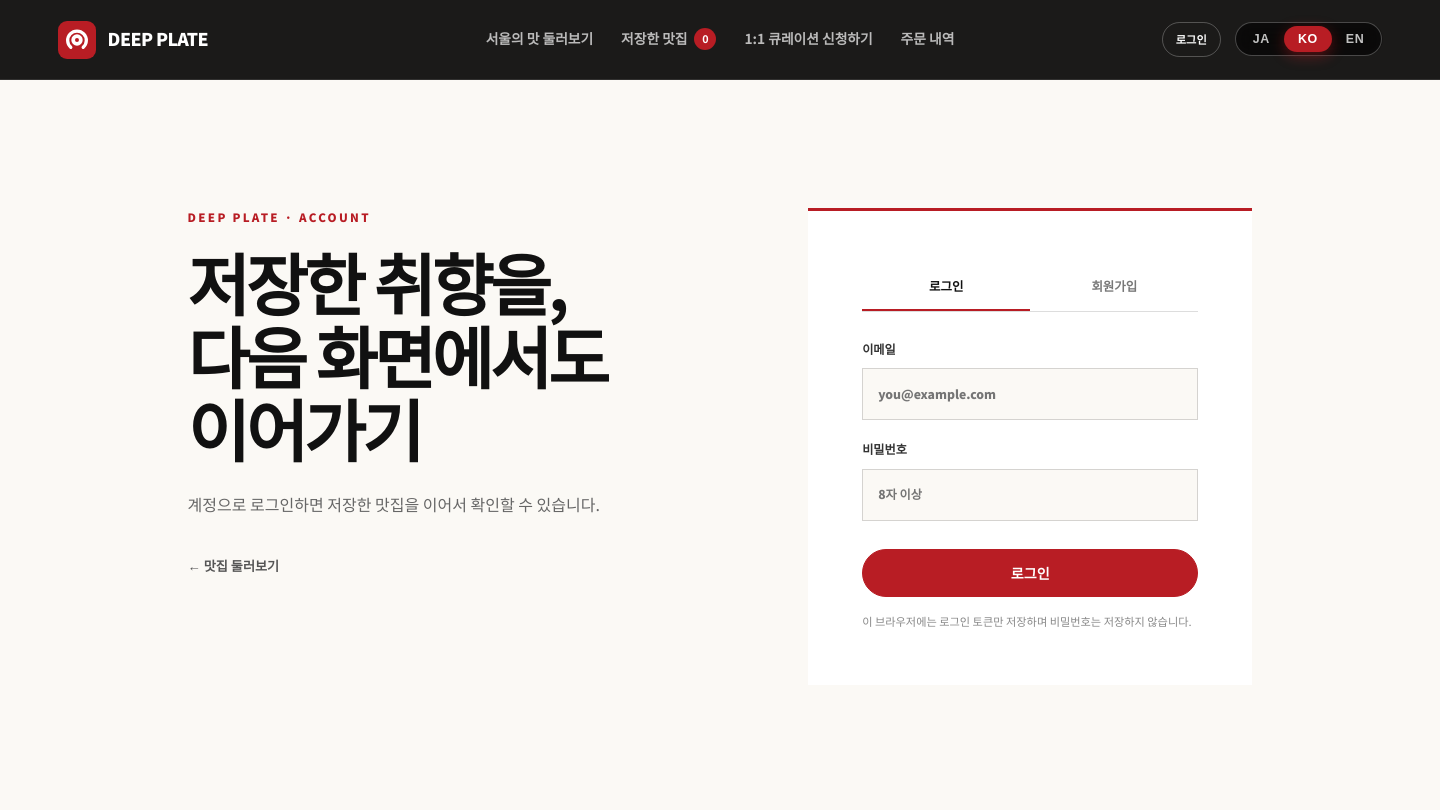
Deep Plate 주요 사용자 흐름 › 로그인과 회원가입을 제공하고 토큰만 저장한다
The image size is (1440, 810).
Click the button "회원가입" at (1114, 288), box [1030,265,1198,311]
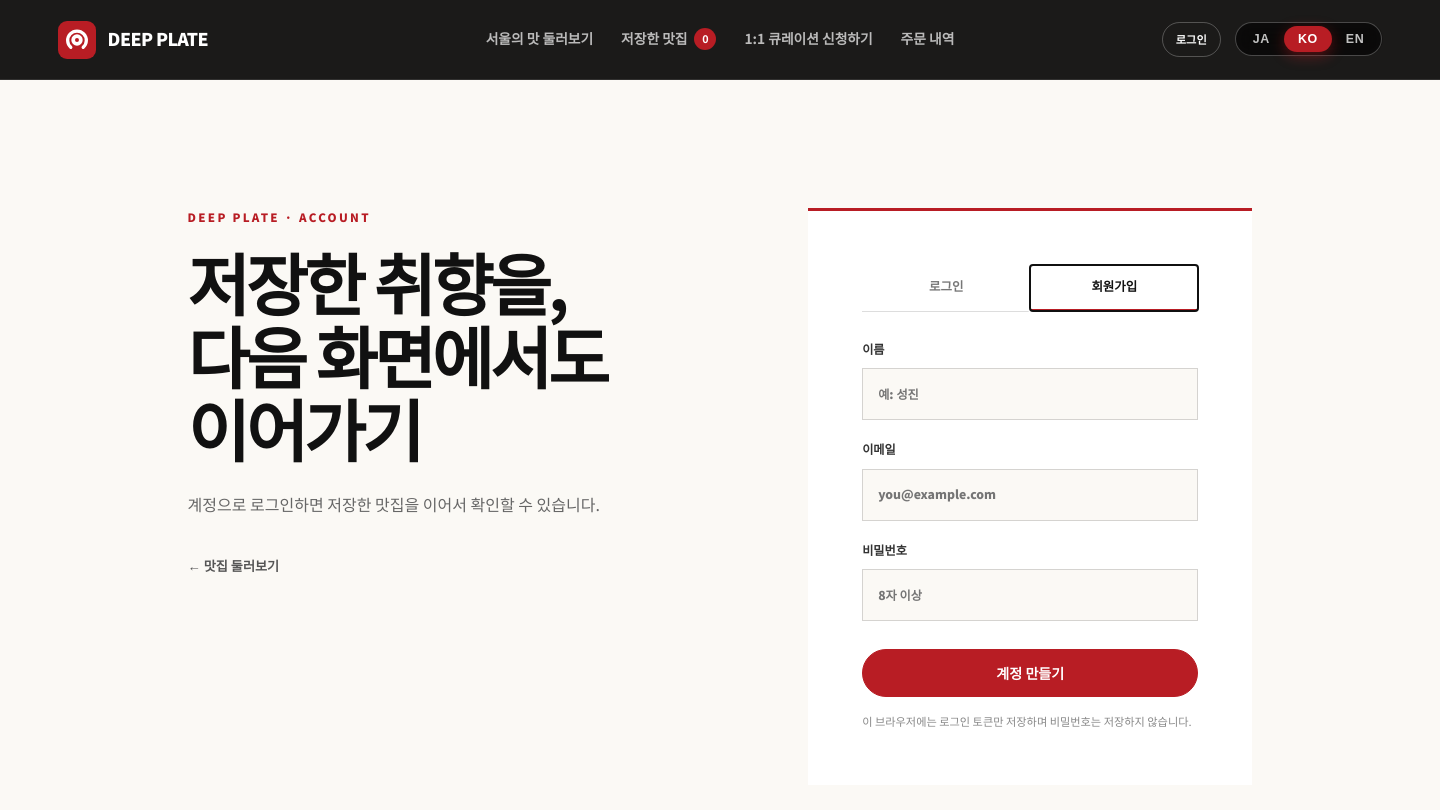
Type "성진" into the field labelled "이름" at (1030, 394), box [862,368,1198,420]
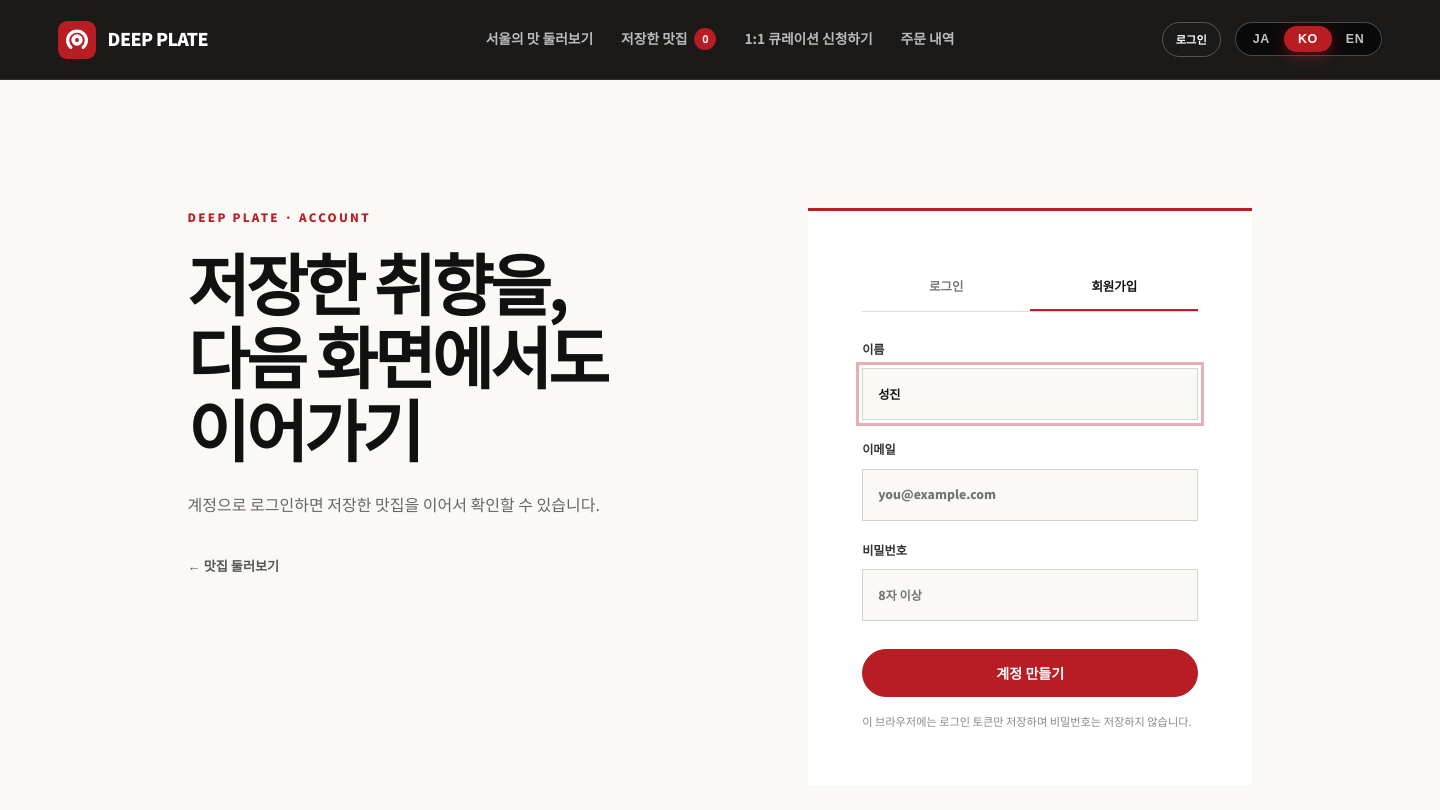
Type "hello@deepplate.test" into the field labelled "이메일" at (1030, 495), box [862,469,1198,521]
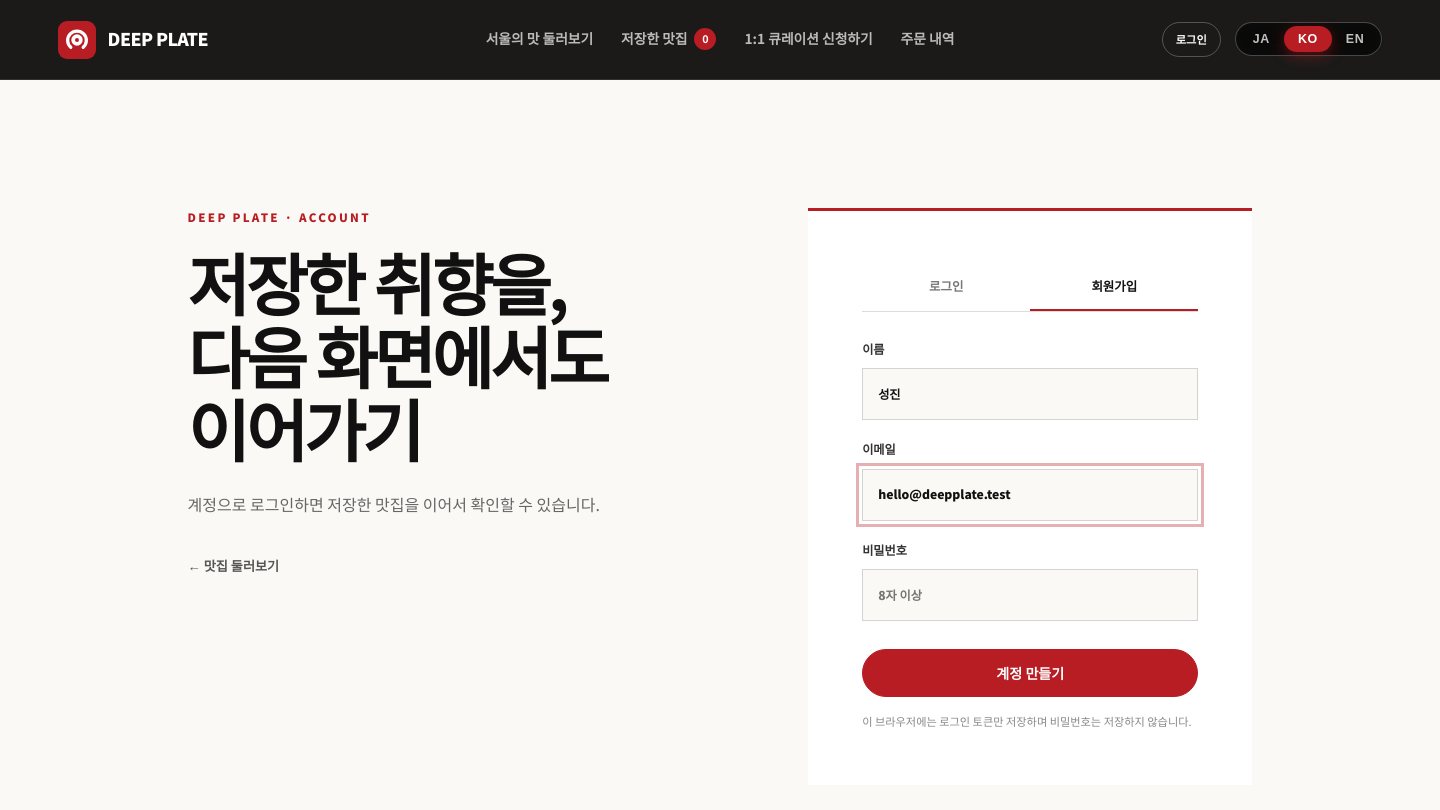
Type "sample123" into the password field labelled "비밀번호" at (1030, 595), box [862,569,1198,621]
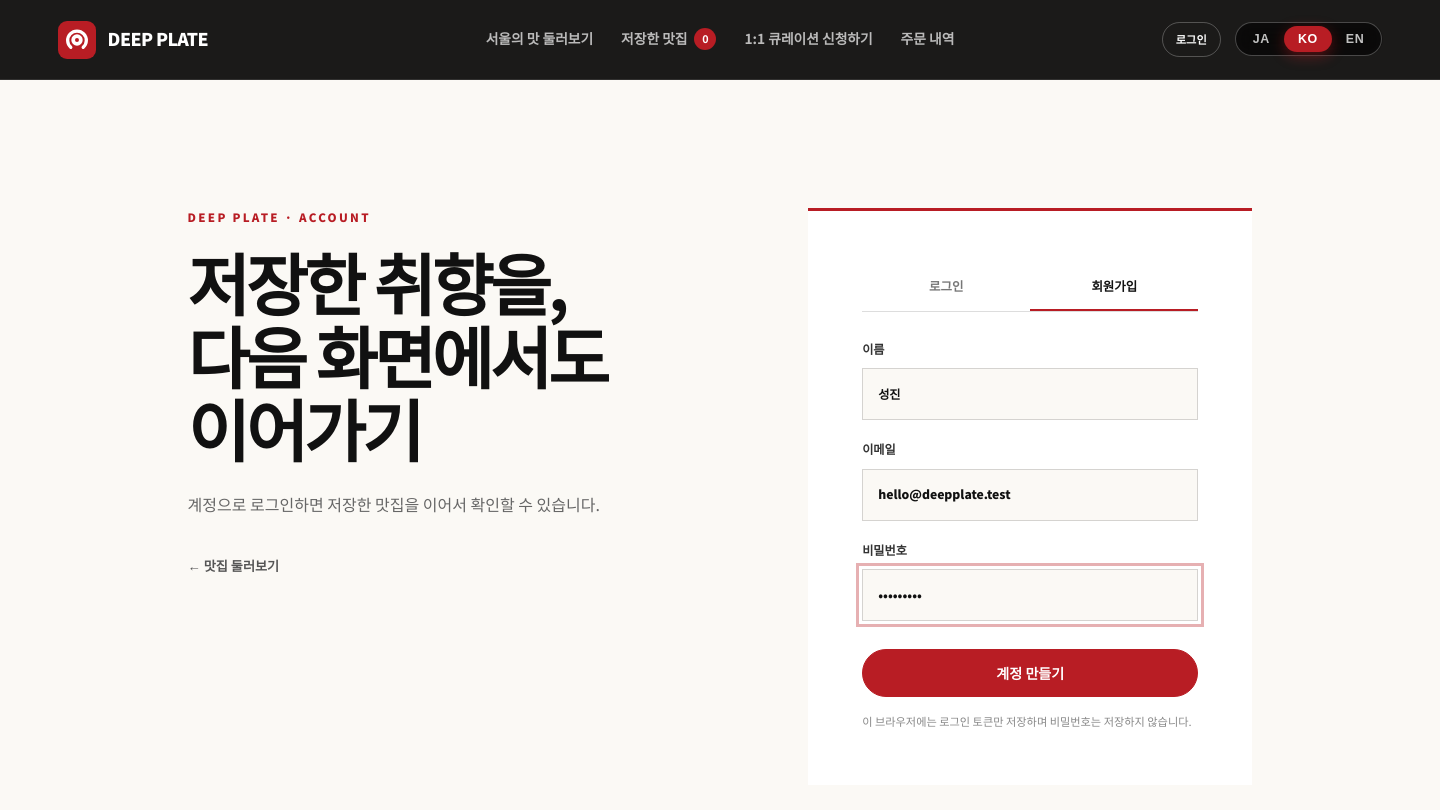
Click the button "계정 만들기" at (1030, 673), box [862,649,1198,697]
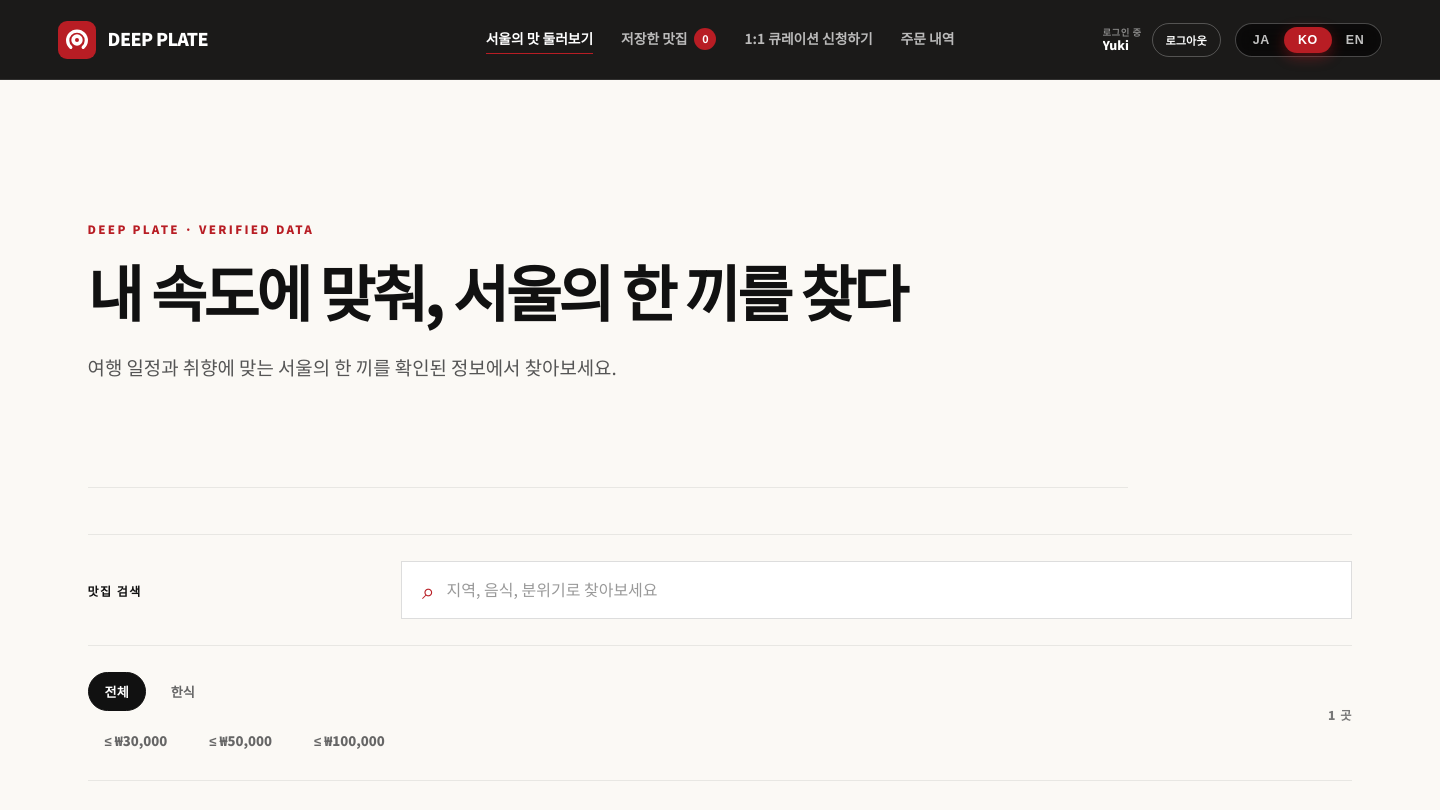
Result: the heading "내 속도에 맞춰, 서울의 한 끼를 찾다" is shown at [88,258,1008,324]
Click the button "로그아웃" at (1186, 40), box [1152,22,1221,56]
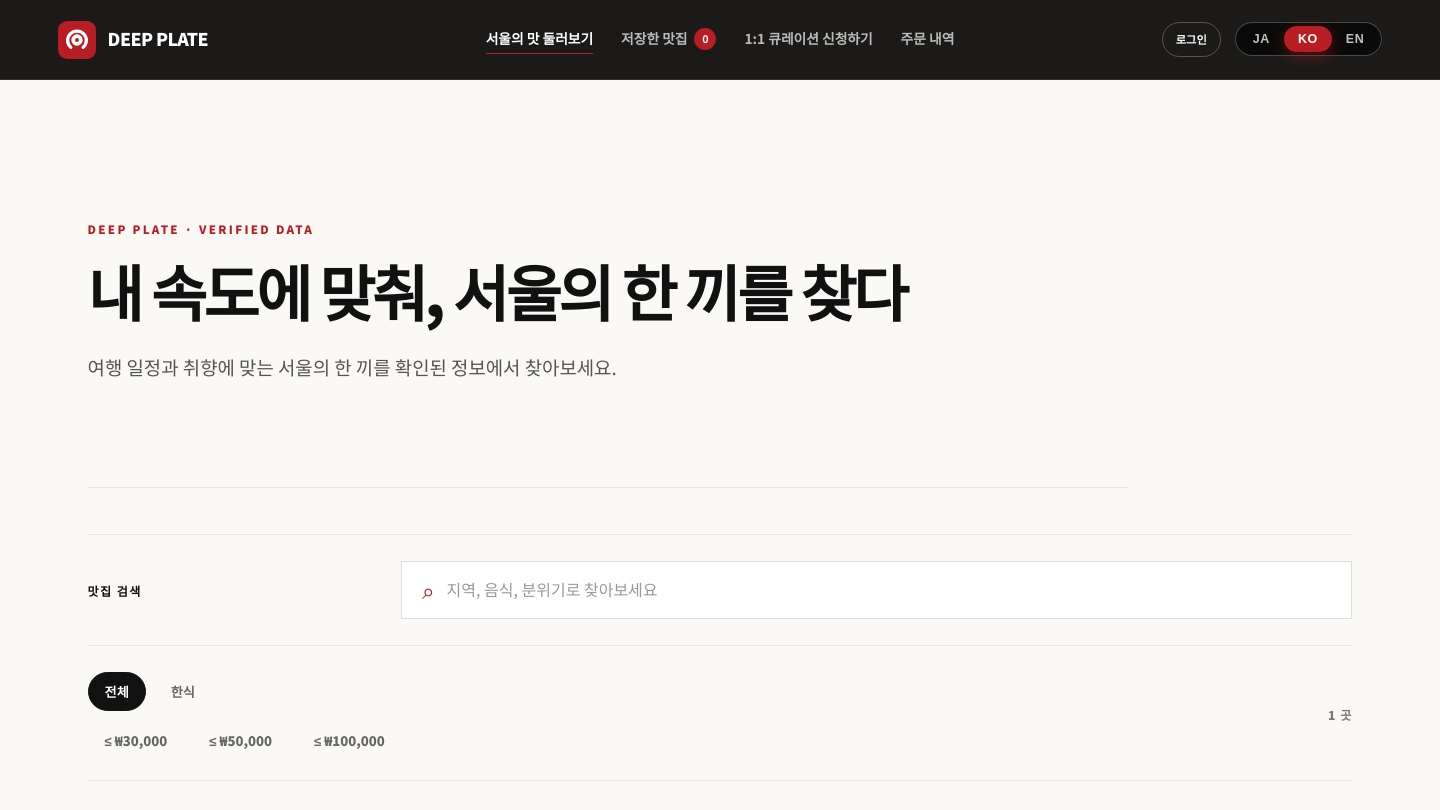
Result: the link "로그인" is shown at [1162,22,1221,57]
